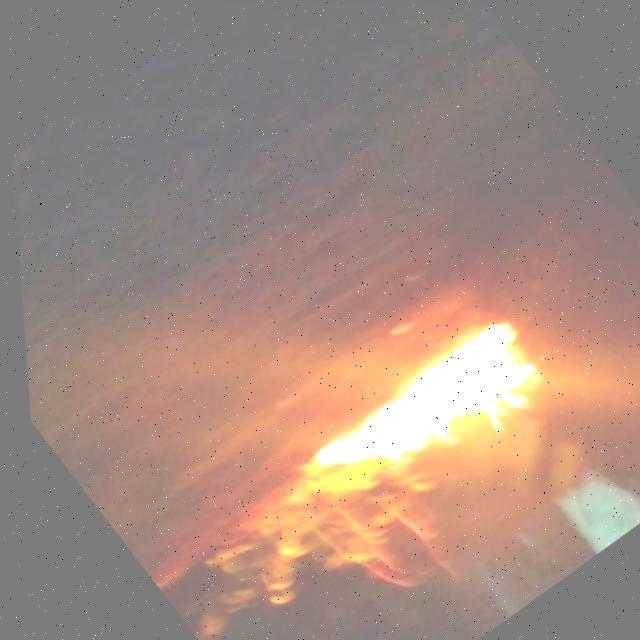Fire: (284, 305, 567, 536)
